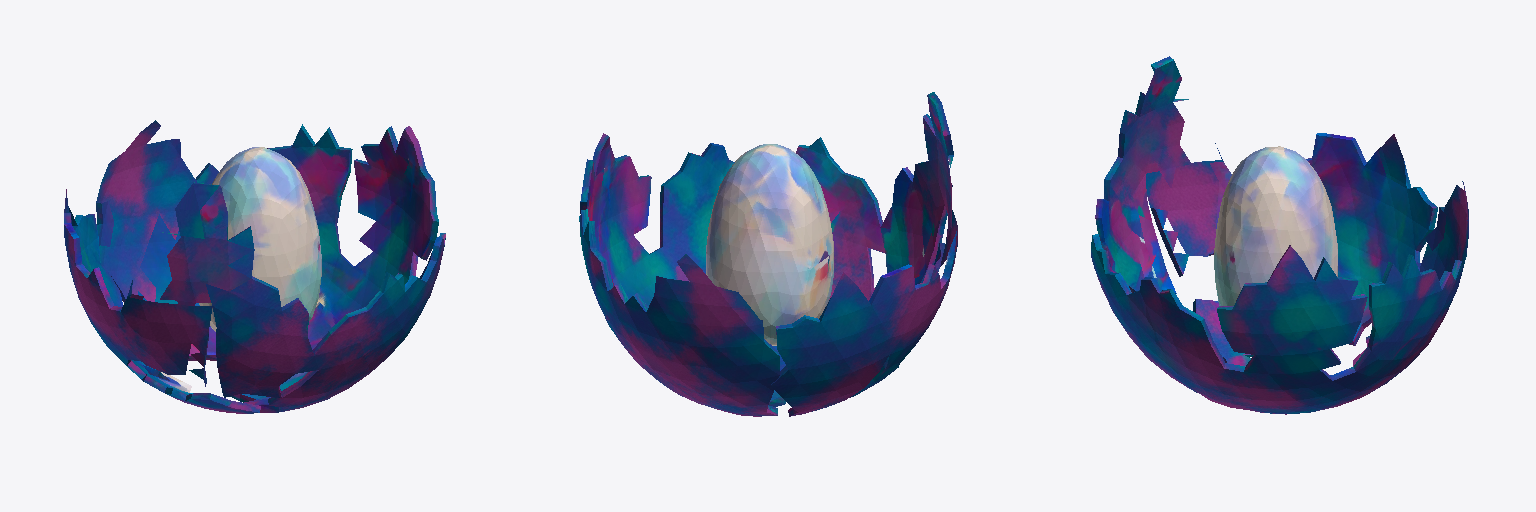
3 renders of one model, left to right at view 1: azimuth 30°, elevation 25°; view 2: azimuth 150°, elevation 25°; view 3: azimuth 270°, elevation 25°, orthographic.
Parts seen in each view (by area): view 1: tripo_part_6, tripo_part_2, tripo_part_8, tripo_part_5, tripo_part_4; view 2: tripo_part_6, tripo_part_5, tripo_part_8, tripo_part_2; view 3: tripo_part_6, tripo_part_8, tripo_part_5, tripo_part_2, tripo_part_4.
Boxes of the visible parts, x1,y1,x2,y2 form: tripo_part_6: [96, 120, 445, 412]; tripo_part_2: [160, 182, 313, 397]; tripo_part_8: [64, 189, 212, 392]; tripo_part_5: [199, 147, 321, 331]; tripo_part_4: [165, 385, 260, 413]; tripo_part_6: [579, 133, 885, 416]; tripo_part_5: [706, 144, 833, 345]; tripo_part_8: [771, 210, 957, 416]; tripo_part_2: [880, 92, 953, 284]; tripo_part_6: [1091, 181, 1468, 414]; tripo_part_8: [1146, 133, 1437, 345]; tripo_part_5: [1214, 146, 1337, 305]; tripo_part_2: [1095, 56, 1191, 293]; tripo_part_4: [1193, 299, 1253, 366].
Bounding box in the file's own units: 0.727 × 0.5989 × 0.7236.
Materials: 1 (1 with a texture image).